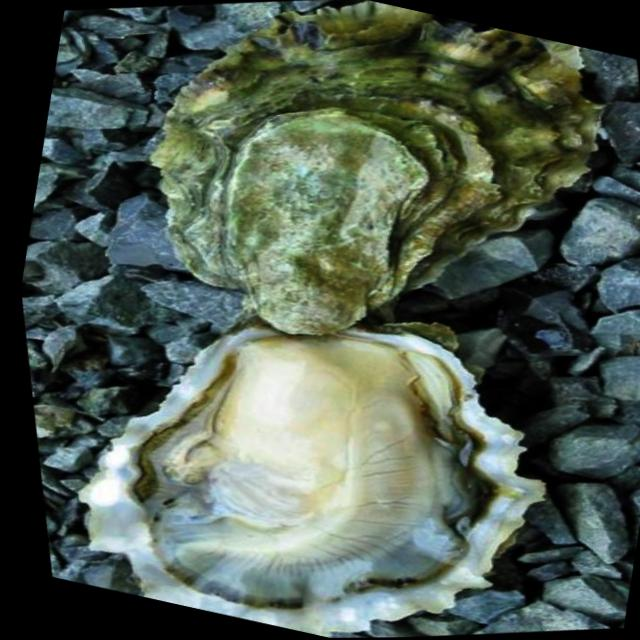Oyster-Indeterminate: (148, 0, 606, 338)
Oyster-Open: (84, 319, 544, 622)
